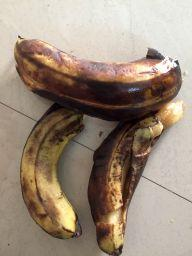banana: (13, 31, 184, 125), (86, 97, 186, 256), (17, 99, 88, 242)
